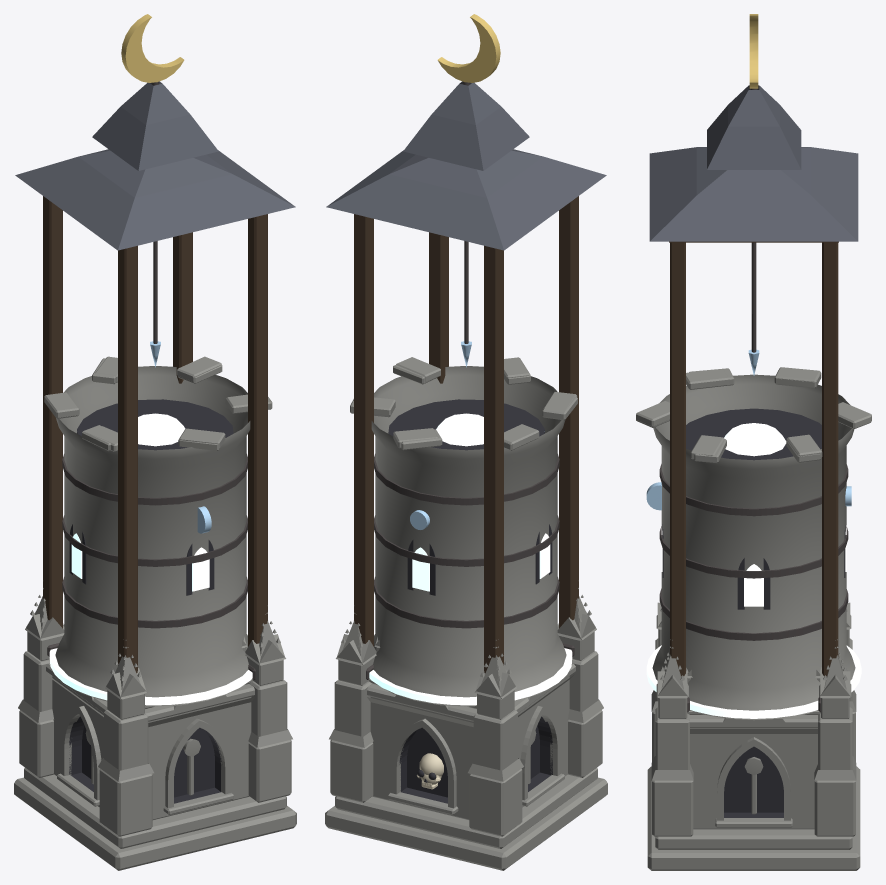
File: tower_well_3.glb
3 renders of one model, left to right at view 1: azimuth 30°, elevation 25°; view 2: azimuth 150°, elevation 25°; view 3: azimuth 270°, elevation 25°, orthographic.
Parts seen in each view (by area): view 1: tower; view 2: tower; view 3: tower.
Boxes of the visible parts, x1=… form: tower: x1=14, y1=14, x2=296, y2=870; tower: x1=325, y1=14, x2=607, y2=870; tower: x1=636, y1=14, x2=871, y2=870.
Size of the model in its own units: 1.72 by 7.14 by 1.89.
